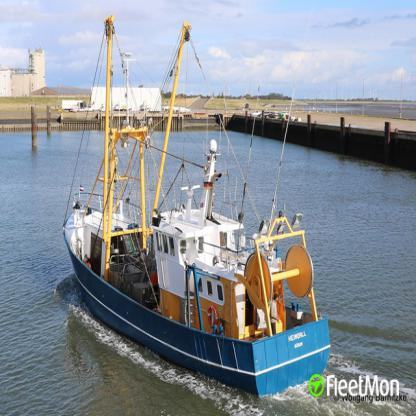Fishing Boat: (62, 13, 332, 400)
